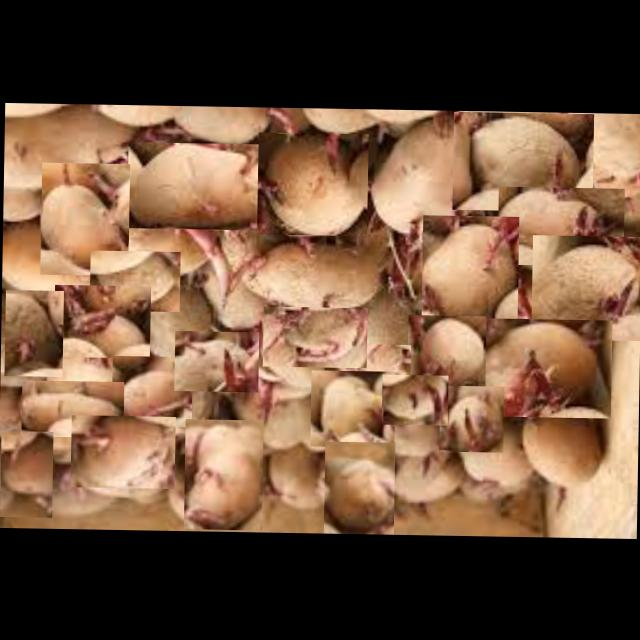Sprouted potato: (361, 112, 480, 244), (220, 216, 382, 312), (451, 110, 593, 211), (471, 317, 611, 417), (126, 140, 275, 230), (529, 233, 640, 339), (255, 131, 368, 235), (420, 214, 518, 328), (38, 160, 128, 276), (496, 185, 623, 265), (182, 418, 262, 529), (95, 207, 216, 280), (214, 379, 323, 453), (69, 413, 174, 488), (521, 404, 602, 498), (39, 322, 131, 404), (357, 404, 453, 482), (52, 282, 150, 358), (452, 422, 543, 496), (322, 440, 394, 533), (309, 369, 394, 446), (261, 305, 366, 367), (253, 441, 329, 526), (342, 290, 421, 370), (20, 378, 123, 436), (110, 354, 192, 426), (406, 314, 485, 388), (88, 248, 180, 310), (3, 288, 62, 376), (173, 330, 258, 390), (0, 429, 52, 516), (322, 342, 410, 392), (438, 384, 503, 451), (380, 373, 447, 424)
